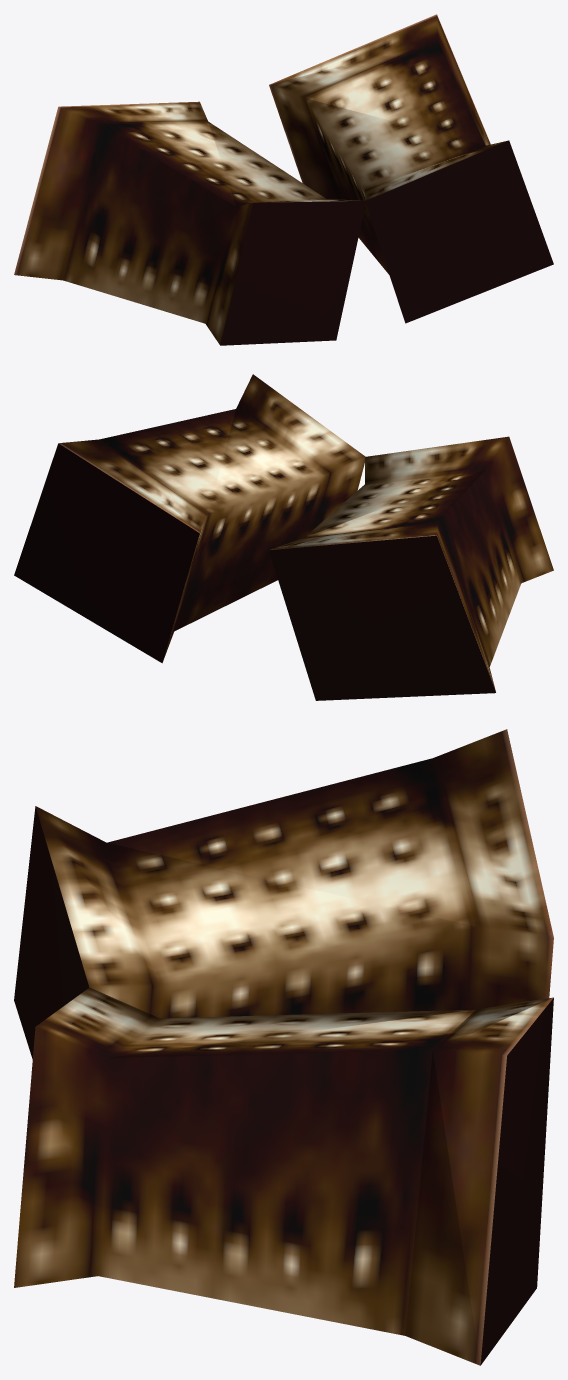
Rendered from Item04.FBX.
3 views of the same model, one above another, from view 1: azimuth 30°, elevation 25°; view 2: azimuth 150°, elevation 25°; view 3: azimuth 270°, elevation 25° (orthographic). The views are drawn at different scales.
Visible parts, largest first — view 1: Item04; view 2: Item04; view 3: Item04.
Part boxes in pixels (x1,y1,x2,y2): Item04: (14,14,553,345); Item04: (14,374,553,700); Item04: (14,729,553,1365).
Bounding box in the file's own units: 17.66 × 6.53 × 9.69.
Materials: 1 (1 with a texture image).
